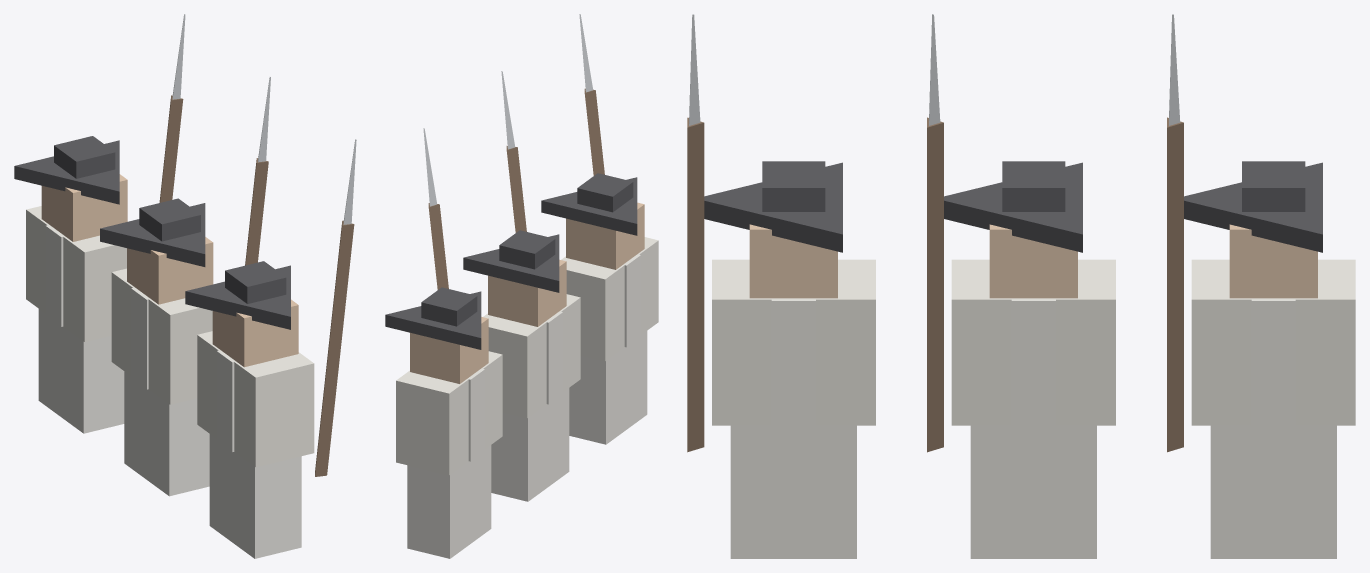
Rendered from formation_front.glb.
3 renders of one model, left to right at view 1: azimuth 30°, elevation 25°; view 2: azimuth 150°, elevation 25°; view 3: azimuth 270°, elevation 25°, orthographic. The views are drawn at different scales.
Visible parts, largest first — view 1: gunpowder_formation_front; view 2: gunpowder_formation_front; view 3: gunpowder_formation_front.
Boxes of the visible parts, x1,y1,x2,y2 form: gunpowder_formation_front: (14,14,356,558); gunpowder_formation_front: (385,14,658,558); gunpowder_formation_front: (687,14,1355,558).
Size of the model in its own units: 0.2839 by 0.944 by 0.9995.
